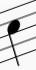HC: (5, 7, 24, 68)
